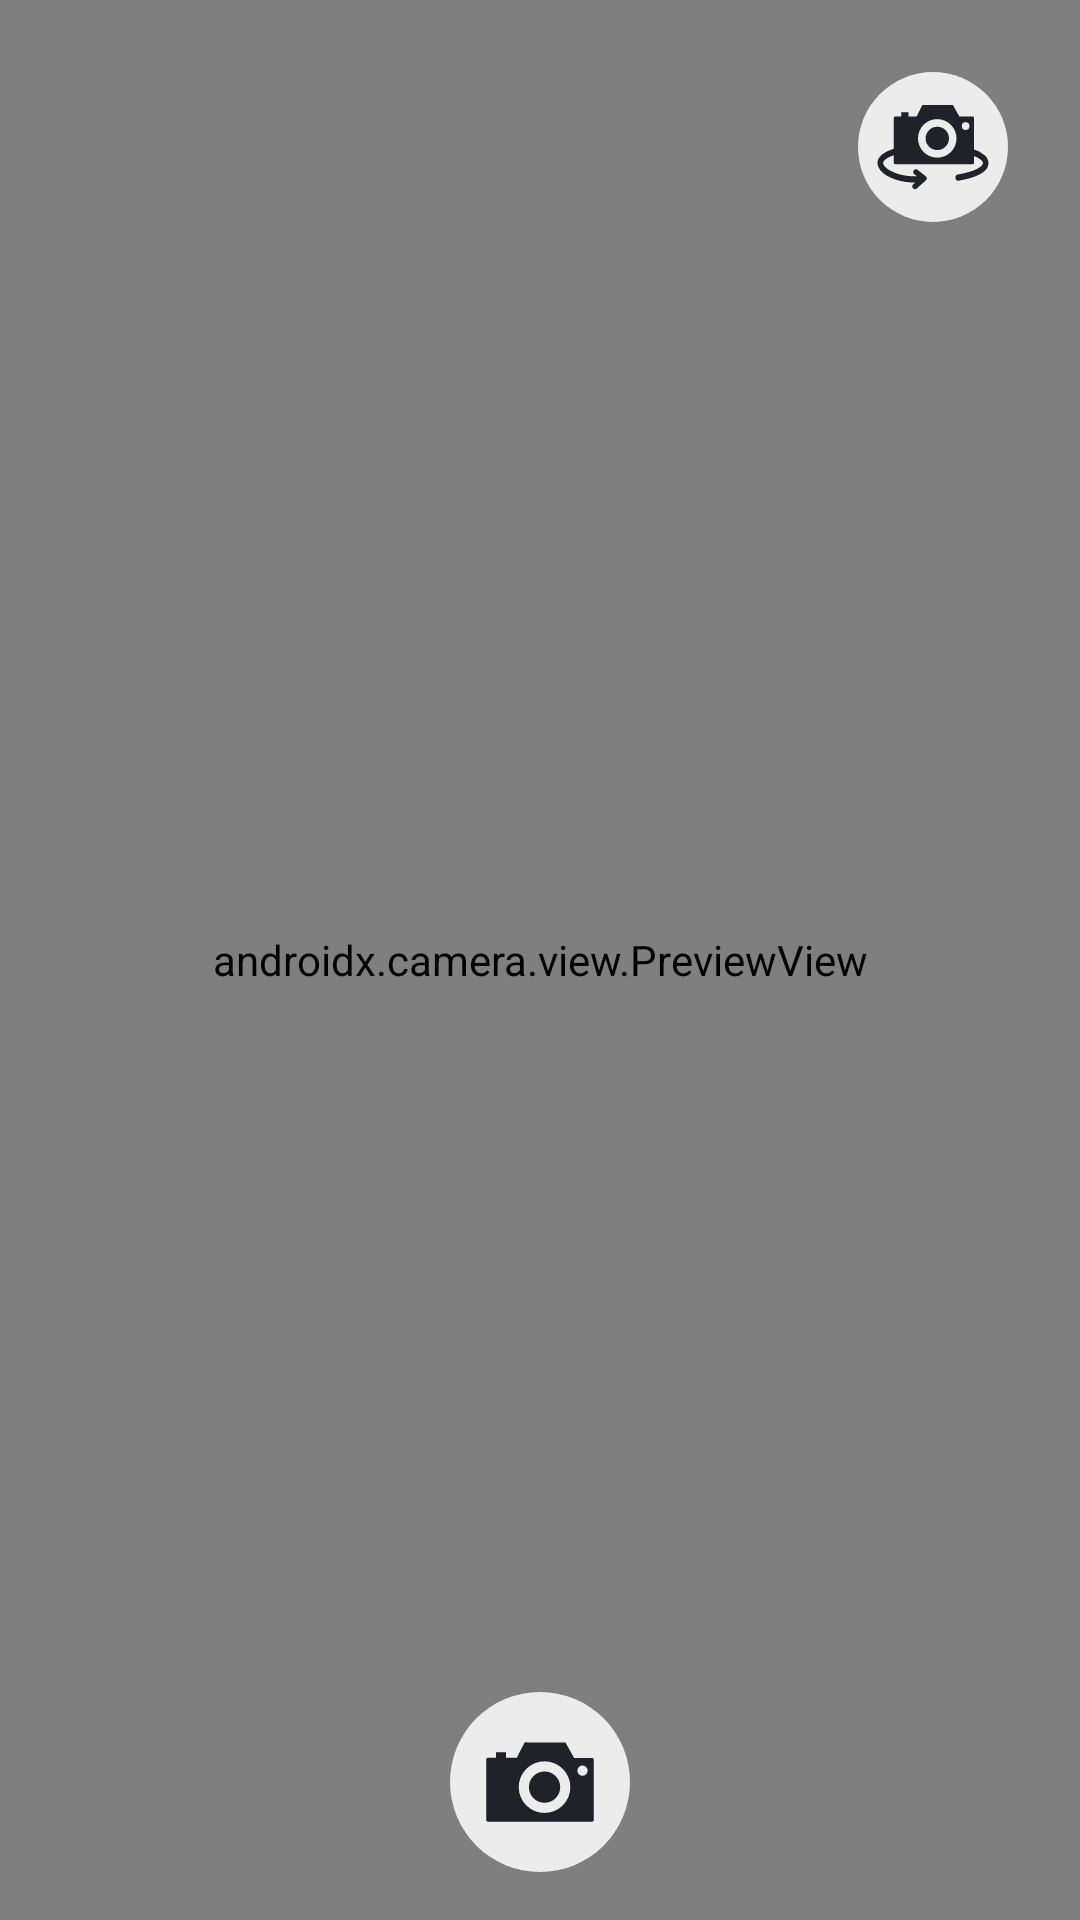

Named icons in this screenshot (1080×1920) and their centers, [x,y]:
Ambil Gambar: [540,1782]
Balik Kamera: [933,147]
